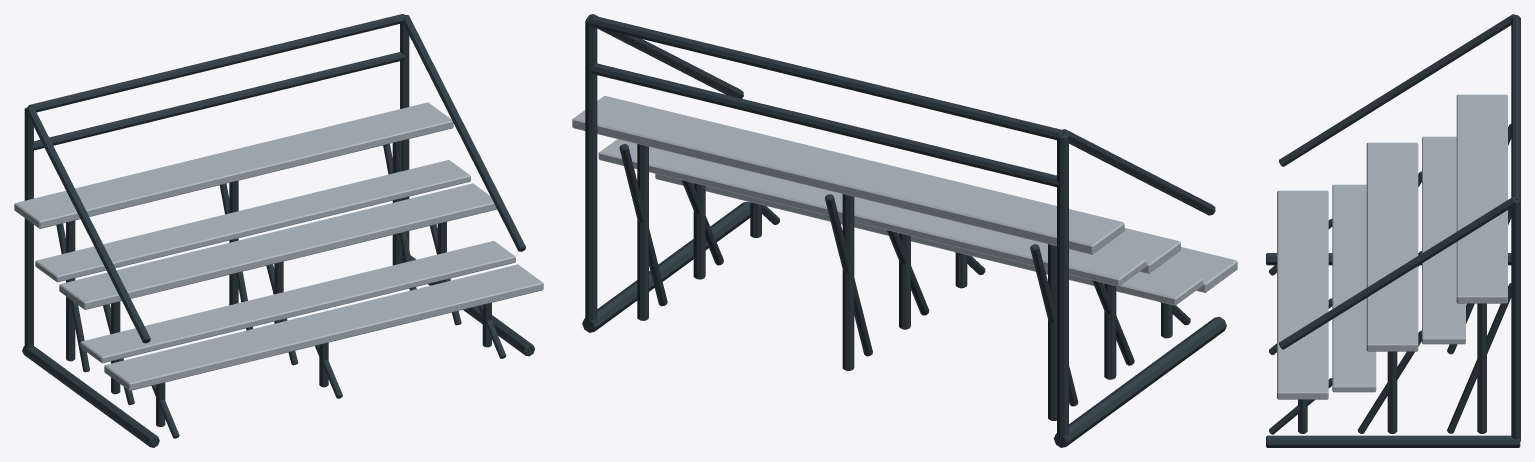
File: b01_three_tier_bleachers.glb
3 views of the same model, side by side, from view 1: azimuth 30°, elevation 25°; view 2: azimuth 150°, elevation 25°; view 3: azimuth 270°, elevation 25° (orthographic). The views are drawn at different scales.
Visible parts, largest first — view 1: b01_three_tier_bleachers; view 2: b01_three_tier_bleachers; view 3: b01_three_tier_bleachers.
Boxes of the visible parts, x1=… form: b01_three_tier_bleachers: x1=14, y1=14, x2=543, y2=447; b01_three_tier_bleachers: x1=572, y1=14, x2=1237, y2=447; b01_three_tier_bleachers: x1=1266, y1=14, x2=1520, y2=447.
Size of the model in its own units: 3.25 by 1.88 by 1.73.
